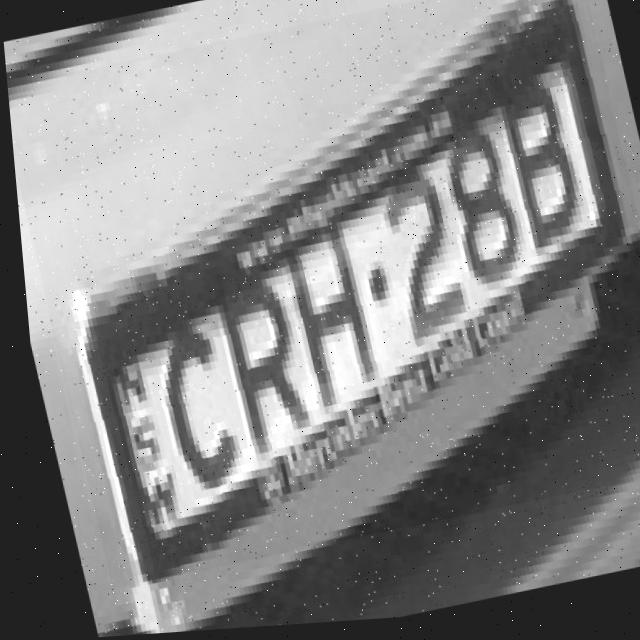LicensePlate: (0, 0, 640, 593)
